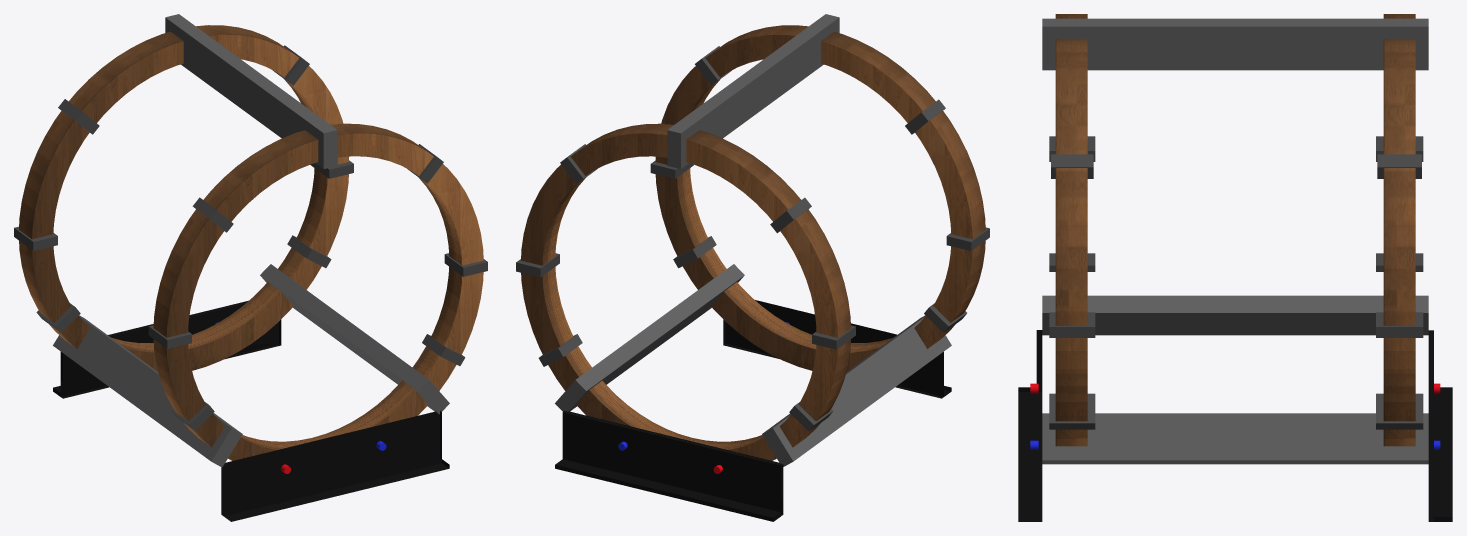
The model's file is HelmholtzCoils.glb.
The picture shows the model from 3 angles, left to right: view 1: azimuth 30°, elevation 25°; view 2: azimuth 150°, elevation 25°; view 3: azimuth 270°, elevation 25°; orthographic projection. The views are drawn at different scales.
Parts seen in each view (by area): view 1: Cylinder.008; view 2: Cylinder.008; view 3: Cylinder.008.
Part boxes in pixels (bbox=[...]): Cylinder.008: bbox=[14, 14, 487, 521]; Cylinder.008: bbox=[516, 14, 989, 521]; Cylinder.008: bbox=[1018, 14, 1452, 521].
Size of the model in its own units: 353 by 375 by 340.
6 materials, 1 textured.
